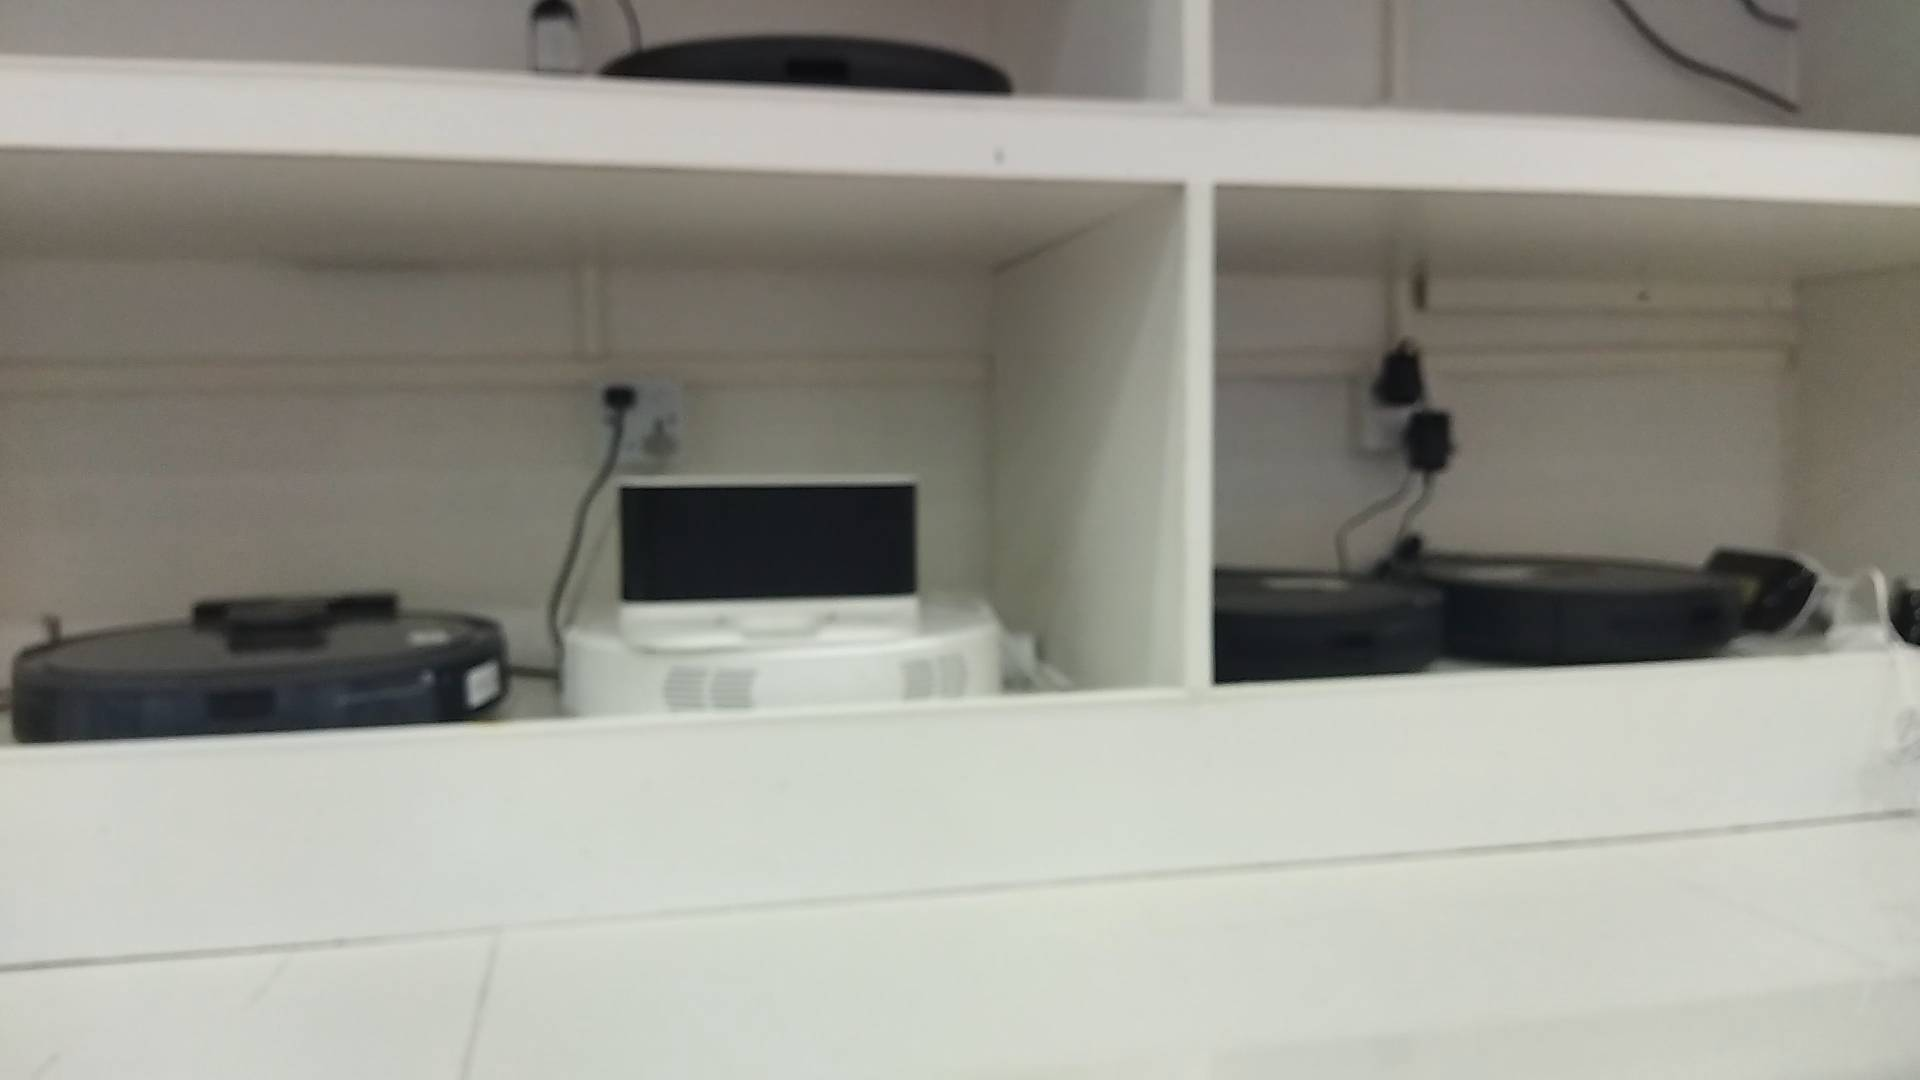recharge seat: (615, 472, 926, 651)
